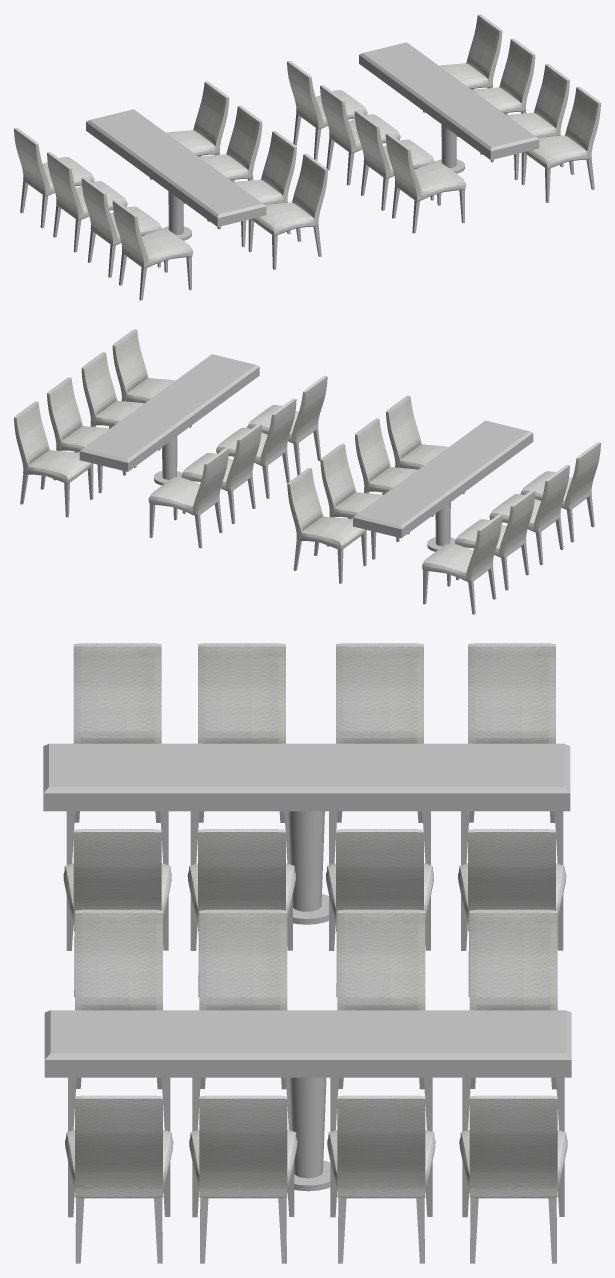
Rendered from table-8people.fbx.
3 renders of one model, top to bottom at view 1: azimuth 30°, elevation 25°; view 2: azimuth 150°, elevation 25°; view 3: azimuth 270°, elevation 25°, orthographic. The views are drawn at different scales.
Visible parts, largest first — view 1: table16:pasted__pasted__pCube2, table15:pasted__pasted__pCube2, table16:chair8Table1, table15:chair8Table1, table15:chair8Table5, table16:chair8Table5, table16:chair8Table, table15:chair8Table, table15:chair8Table2, table16:chair8Table2, table16:chair8Table3, table15:chair8Table3 (+6 smaller); view 2: table16:pasted__pasted__pCube2, table15:pasted__pasted__pCube2, table16:chair8Table3, table15:chair8Table3, table16:chair8Table7, table15:chair8Table7, table16:chair8Table2, table15:chair8Table2, table16:chair8Table, table15:chair8Table, table15:chair8Table6, table16:chair8Table1 (+6 smaller); view 3: table15:pasted__pasted__pCube2, table16:pasted__pasted__pCube2, table16:chair8Table2, table16:chair8Table3, table16:chair8Table, table16:chair8Table1, table16:chair8Table6, table16:chair8Table7, table15:chair8Table5, table16:chair8Table5, table16:chair8Table4, table15:chair8Table7 (+6 smaller).
Boxes of the visible parts, x1,y1,x2,y2 form: table16:pasted__pasted__pCube2: (359, 42, 539, 173); table15:pasted__pasted__pCube2: (86, 109, 266, 240); table16:chair8Table1: (521, 86, 600, 202); table15:chair8Table1: (248, 153, 327, 269); table15:chair8Table5: (112, 200, 193, 300); table16:chair8Table5: (385, 133, 466, 233); table16:chair8Table: (490, 64, 569, 180); table15:chair8Table: (217, 131, 296, 247); table15:chair8Table2: (183, 105, 262, 221); table16:chair8Table2: (457, 38, 535, 154); table16:chair8Table3: (423, 14, 502, 112); table15:chair8Table3: (150, 81, 229, 179); table16:pasted__pasted__pCube2: (79, 354, 259, 485); table15:pasted__pasted__pCube2: (353, 420, 533, 551); table16:chair8Table3: (14, 401, 93, 517); table15:chair8Table3: (287, 468, 366, 583); table16:chair8Table7: (148, 448, 228, 548); table15:chair8Table7: (422, 514, 502, 614); table16:chair8Table2: (47, 377, 126, 493); table15:chair8Table2: (320, 443, 399, 559); table16:chair8Table: (81, 352, 160, 467); table15:chair8Table: (355, 418, 434, 534); table15:chair8Table6: (455, 490, 535, 590); table16:chair8Table1: (112, 329, 191, 427); table15:pasted__pasted__pCube2: (43, 743, 570, 924); table16:pasted__pasted__pCube2: (44, 1010, 571, 1191); table16:chair8Table2: (327, 1095, 435, 1263); table16:chair8Table3: (459, 1095, 567, 1263); table16:chair8Table: (189, 1095, 297, 1263); table16:chair8Table1: (65, 1095, 173, 1263); table16:chair8Table6: (330, 909, 432, 1131); table16:chair8Table7: (462, 909, 564, 1131); table15:chair8Table5: (66, 643, 168, 865); table16:chair8Table5: (68, 909, 170, 1131); table16:chair8Table4: (192, 909, 291, 1131); table15:chair8Table7: (461, 643, 563, 865).
Bounding box in the file's own units: 1135 × 199 × 557.
